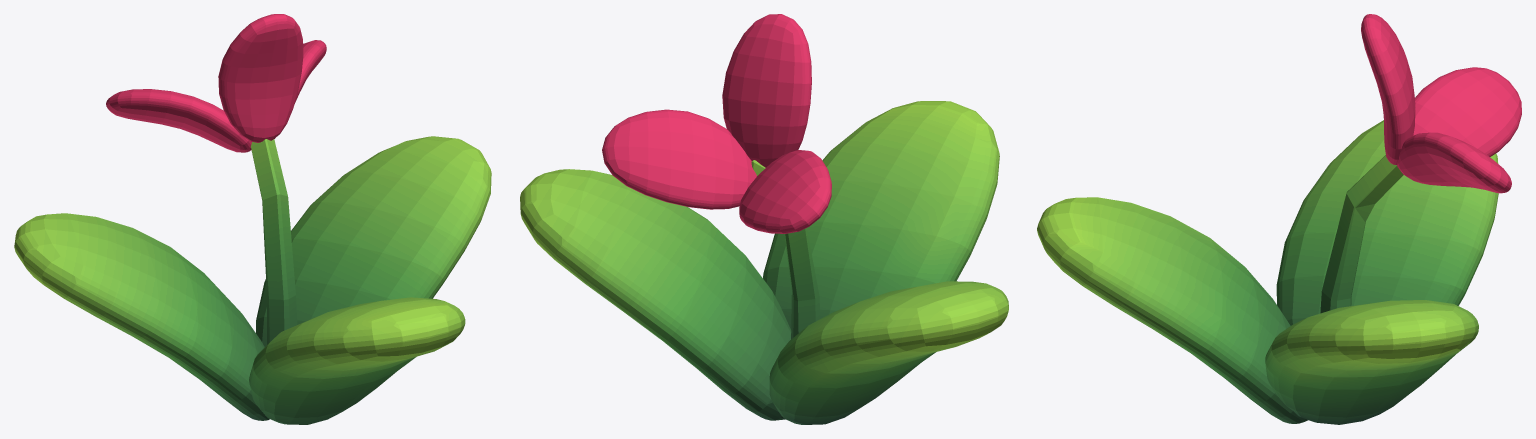
Rendered from grass1.fbx.
3 renders of one model, left to right at view 1: azimuth 30°, elevation 25°; view 2: azimuth 150°, elevation 25°; view 3: azimuth 270°, elevation 25°, orthographic. The views are drawn at different scales.
Parts seen in each view (by area): view 1: Cube.003; view 2: Cube.003; view 3: Cube.003.
Part boxes in pixels (x1,y1,x2,y2): Cube.003: (14, 14, 491, 424); Cube.003: (520, 14, 1008, 424); Cube.003: (1037, 14, 1521, 424).
Bounding box in the file's own units: 0.8212 × 0.6699 × 0.7386.
